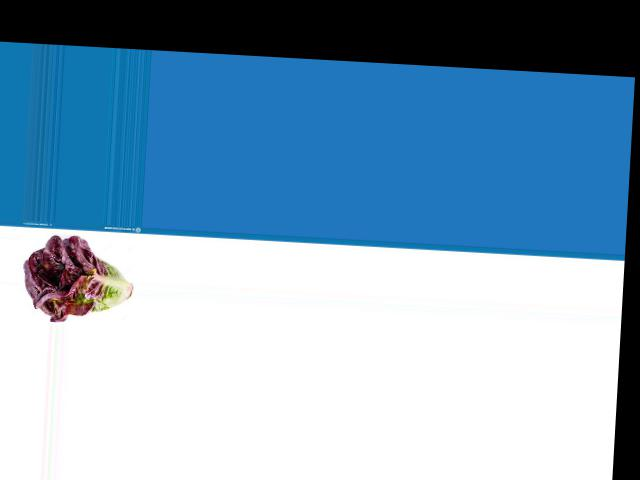lettuce: (22, 232, 137, 323)
